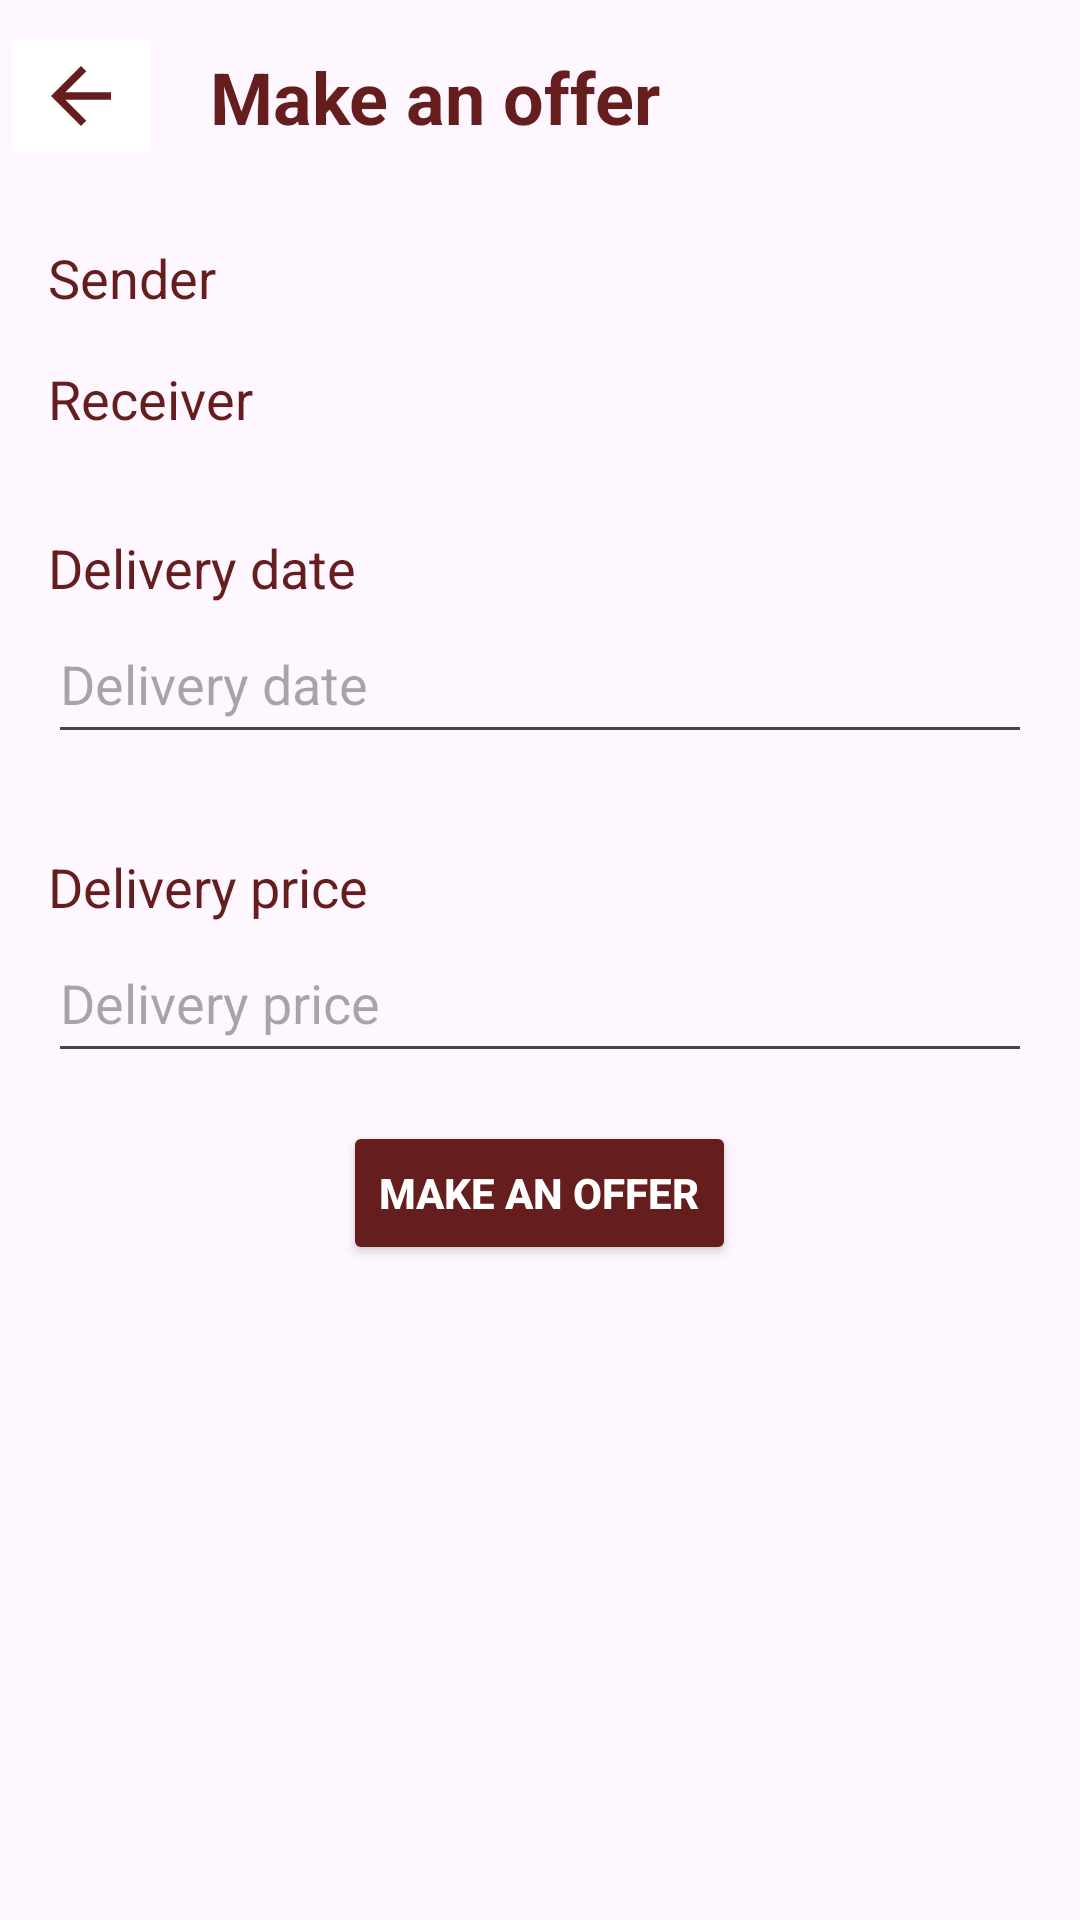

Where to tap for icons on this 1080w x 1920h app screen, as (x=x, y=y):
Back: (x=81, y=96)
